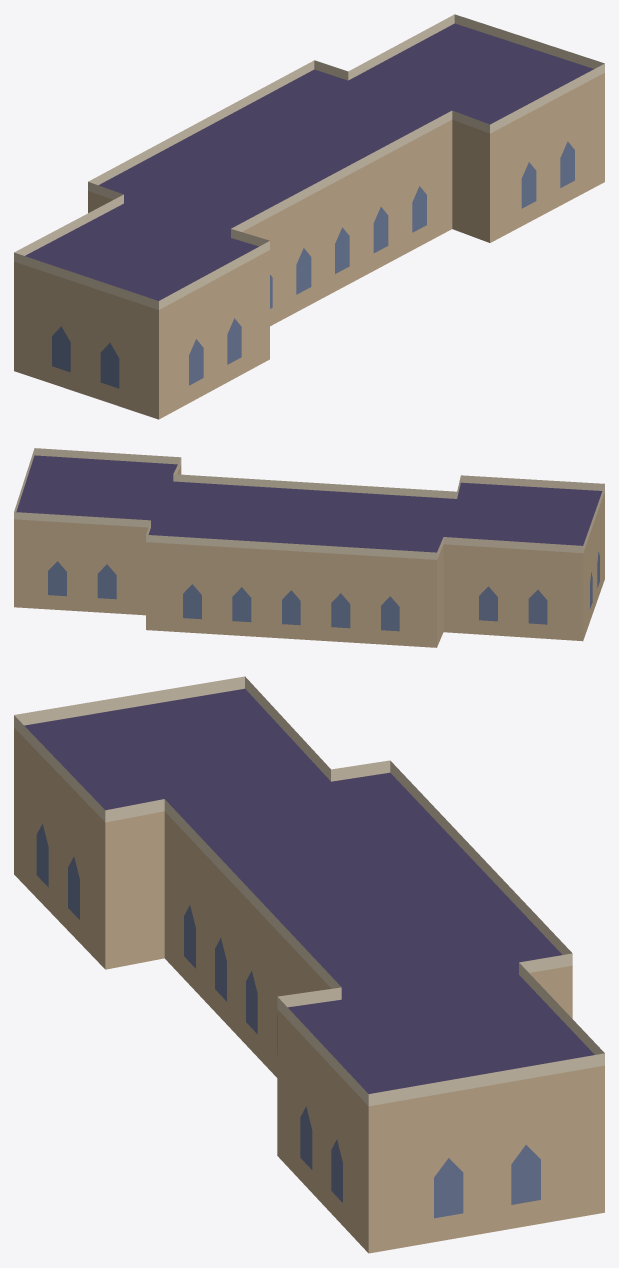
Rendered from b-039-day.glb.
The picture shows the model from 3 angles, top to bottom: view 1: azimuth 30°, elevation 25°; view 2: azimuth 150°, elevation 25°; view 3: azimuth 270°, elevation 25°; orthographic projection. The views are drawn at different scales.
Visible parts, largest first — view 1: campus/b-039-day-0; view 2: campus/b-039-day-0; view 3: campus/b-039-day-0.
Boxes of the visible parts, x1,y1,x2,y2 form: campus/b-039-day-0: (14,14,604,419); campus/b-039-day-0: (14,448,604,647); campus/b-039-day-0: (14,676,604,1253).
Size of the model in its own units: 40.18 by 7.15 by 24.02.
